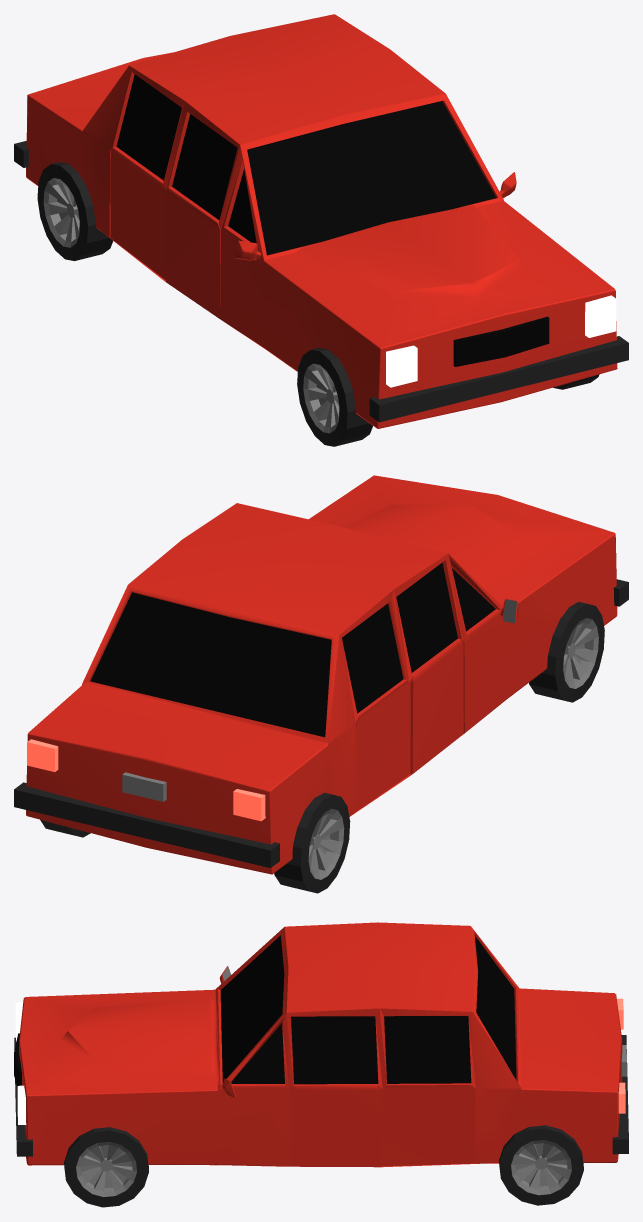
Rendered from redCar.glb.
3 renders of one model, top to bottom at view 1: azimuth 30°, elevation 25°; view 2: azimuth 150°, elevation 25°; view 3: azimuth 270°, elevation 25°, orthographic. The views are drawn at different scales.
Visible parts, largest first — view 1: Object_13, Object_14; view 2: Object_13, Object_15; view 3: Object_13, Object_14, Object_15.
Boxes of the visible parts, x1,y1,x2,y2 form: Object_13: (14, 14, 628, 446); Object_14: (386, 295, 616, 387); Object_13: (14, 475, 628, 893); Object_15: (27, 739, 265, 821); Object_13: (14, 922, 628, 1207); Object_14: (15, 1002, 26, 1124); Object_15: (617, 998, 625, 1113).
Bounding box in the file's own units: 1.51 × 1.14 × 3.36.
Materials: 3 (3 with a texture image).
